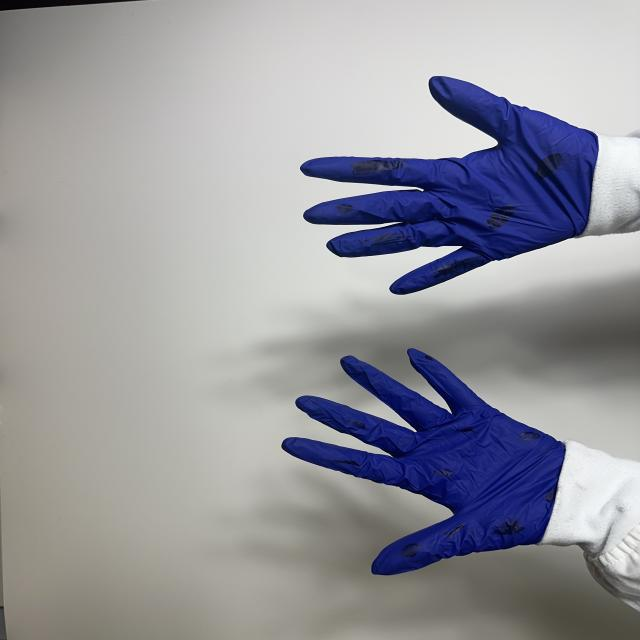gloves_contaminated: (274, 344, 587, 580), (296, 74, 606, 298)
